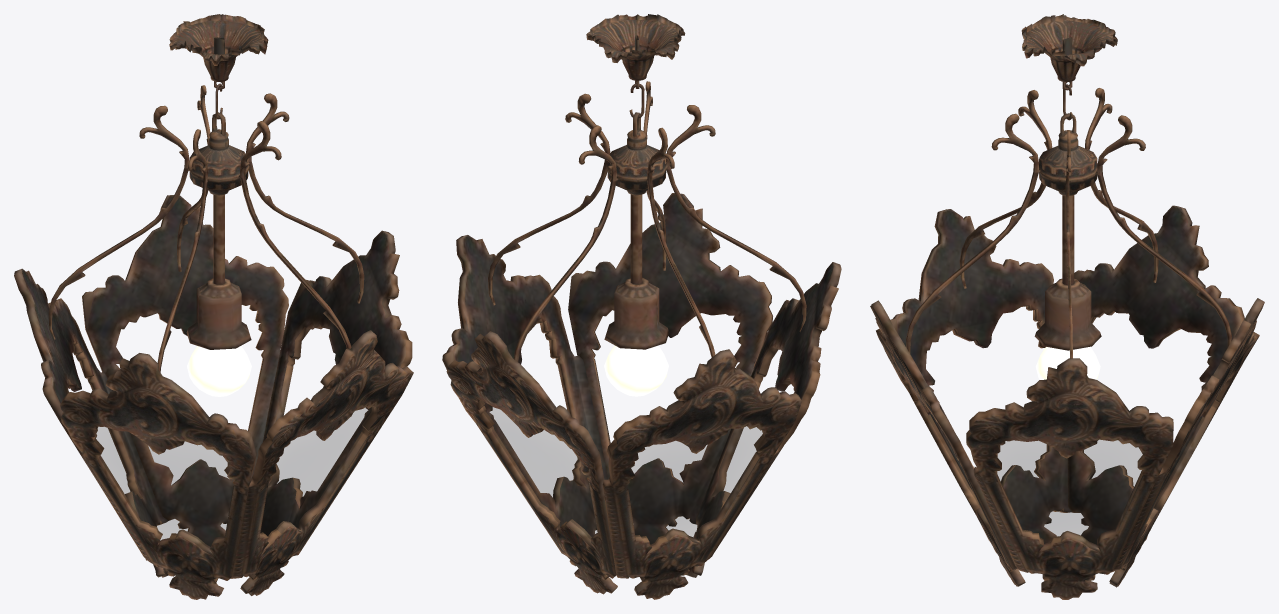
File: lantern_chandelier_01.glb
The picture shows the model from 3 angles, left to right: view 1: azimuth 30°, elevation 25°; view 2: azimuth 150°, elevation 25°; view 3: azimuth 270°, elevation 25°; orthographic projection.
Visible parts, largest first — view 1: lantern_chandelier_01; view 2: lantern_chandelier_01; view 3: lantern_chandelier_01.
Part boxes in pixels (<box>): lantern_chandelier_01: <box>14,14,413,599</box>; lantern_chandelier_01: <box>442,14,841,599</box>; lantern_chandelier_01: <box>870,14,1264,599</box>.
Bounding box in the file's own units: 0.5792 × 0.8776 × 0.5746.
3 materials, 2 textured.
